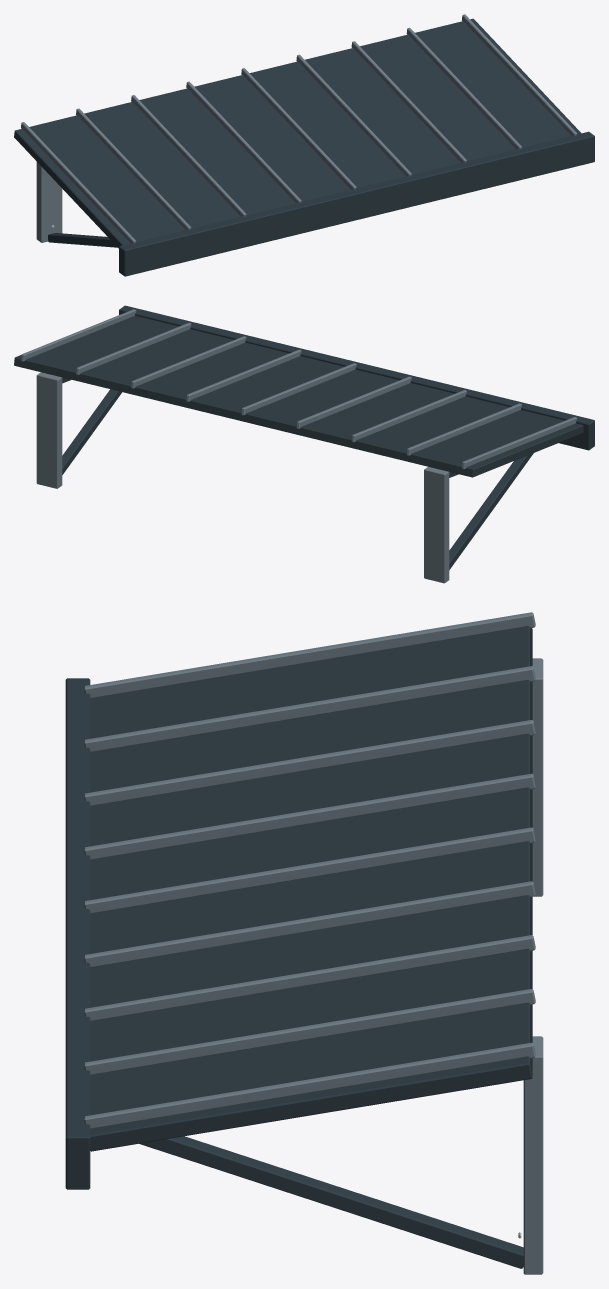
File: b12_standing_seam_metal_canopy.glb
The picture shows the model from 3 angles, top to bottom: view 1: azimuth 30°, elevation 25°; view 2: azimuth 150°, elevation 25°; view 3: azimuth 270°, elevation 25°; orthographic projection. The views are drawn at different scales.
Parts seen in each view (by area): view 1: b12_standing_seam_metal_canopy; view 2: b12_standing_seam_metal_canopy; view 3: b12_standing_seam_metal_canopy.
Part boxes in pixels (x1,y1,x2,y2): b12_standing_seam_metal_canopy: (14, 14, 594, 276); b12_standing_seam_metal_canopy: (14, 305, 594, 583); b12_standing_seam_metal_canopy: (65, 612, 543, 1274).
Bounding box in the file's own units: 3.33 × 0.8391 × 1.46.
